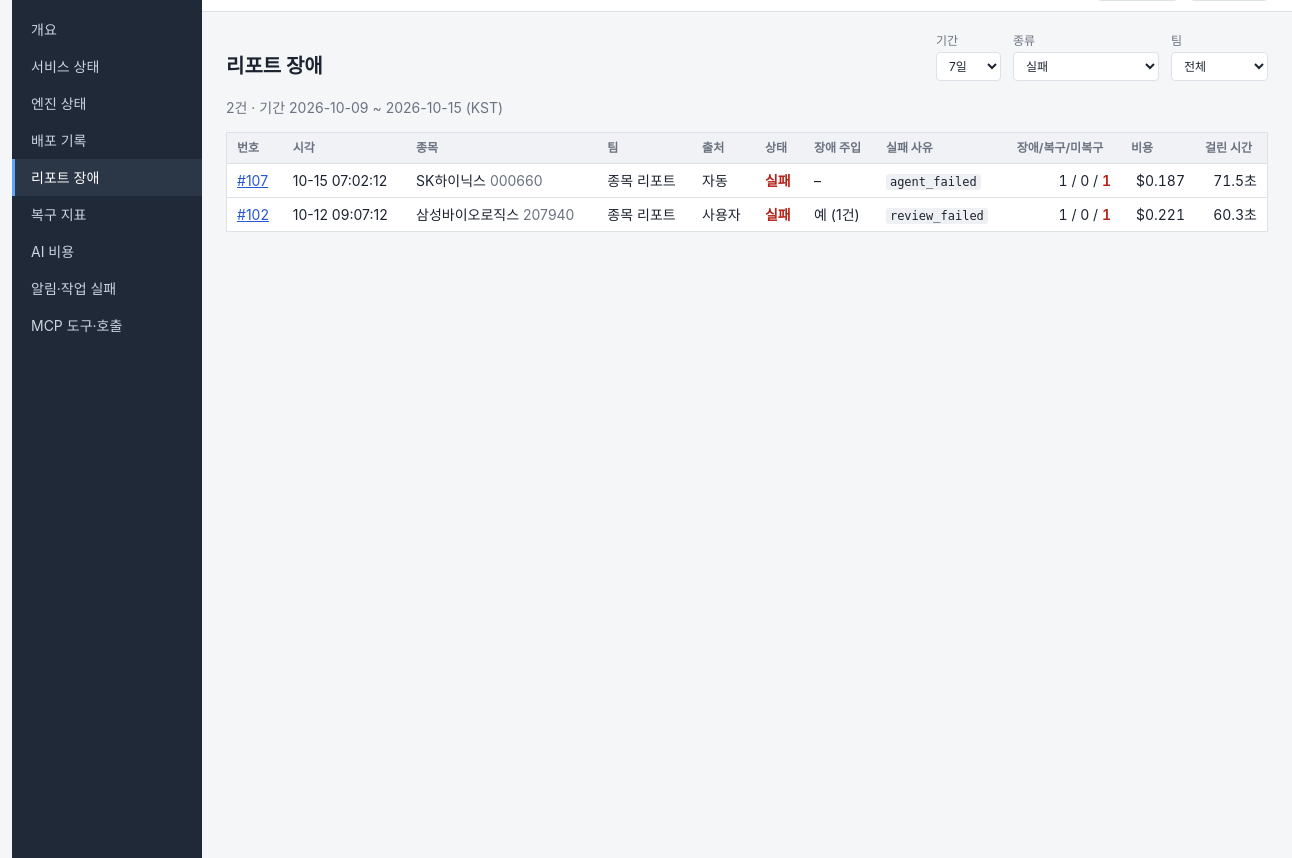
Test: 리포트 (F6) › 주소의 쿼리 문자열을 필터에 반영하고, 행을 누르면 상세로 간다
Check: the text "SK하이닉스" is shown, box [416,172,486,189]
Check: the dropdown labelled "종류" shows "실패", box [1013,52,1159,81]
Click the text "SK하이닉스" at point(502, 180), box [406,164,597,198]
(page scrolled)
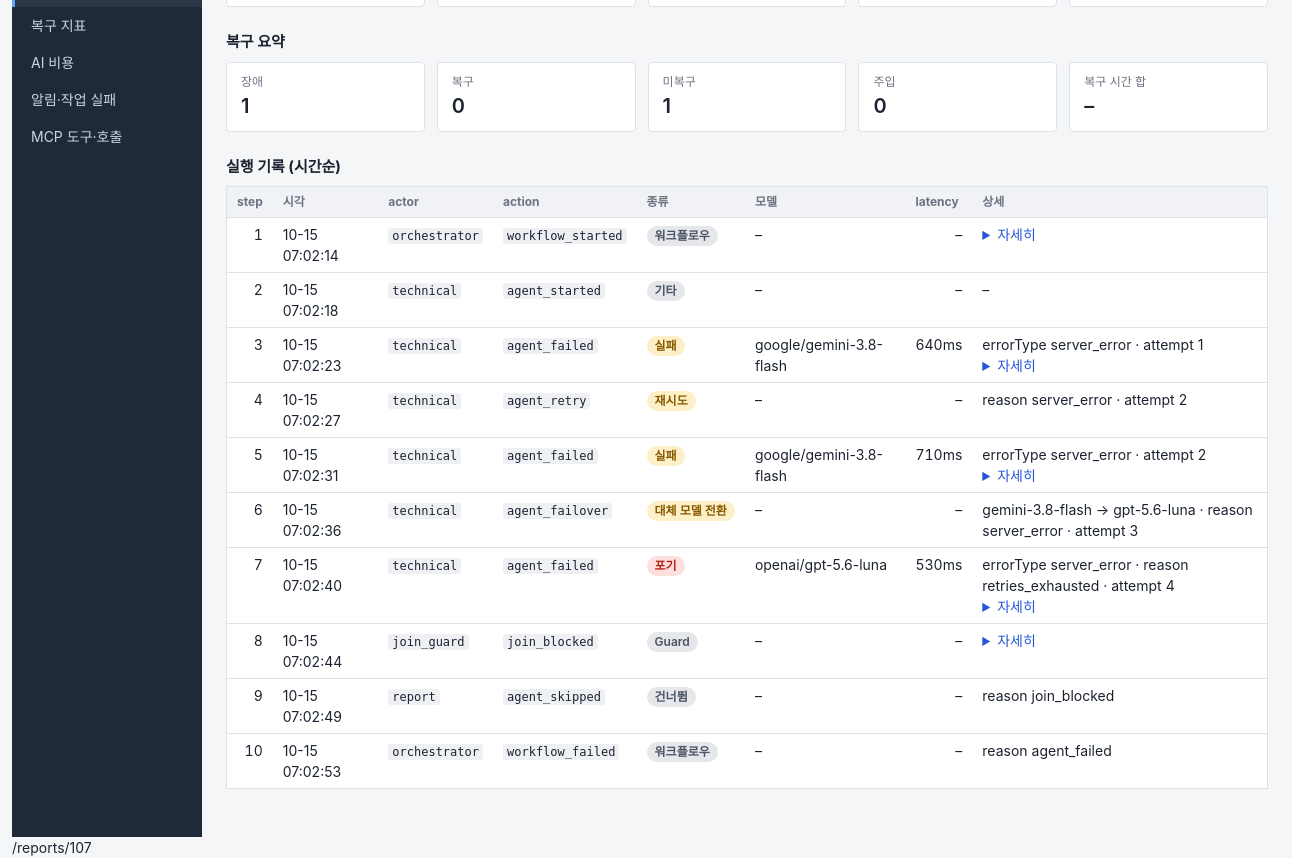
Check: the text with test id "location" reads "/reports/107", box [12,839,92,856]
